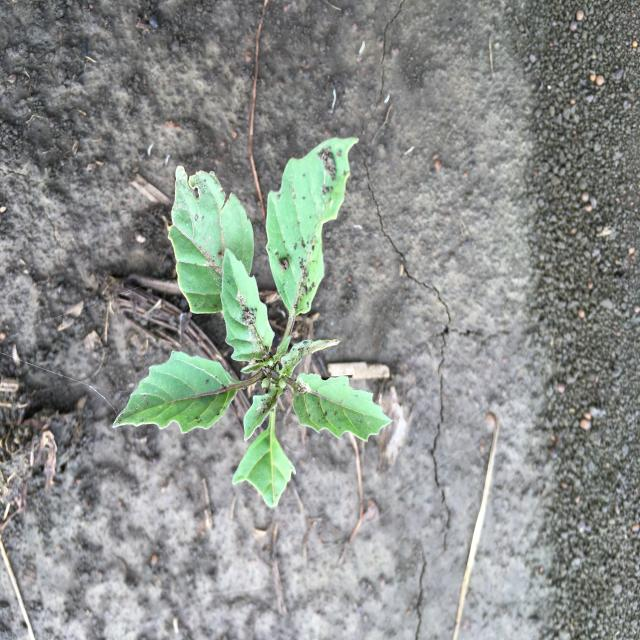CutleafGroundcherry: (110, 135, 395, 512)
